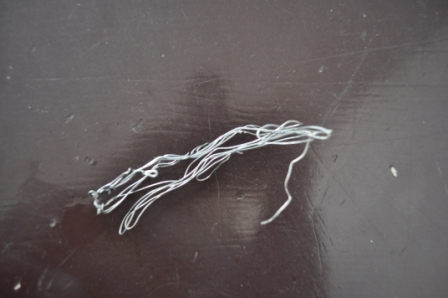METAL WIRE: (92, 120, 334, 230)
